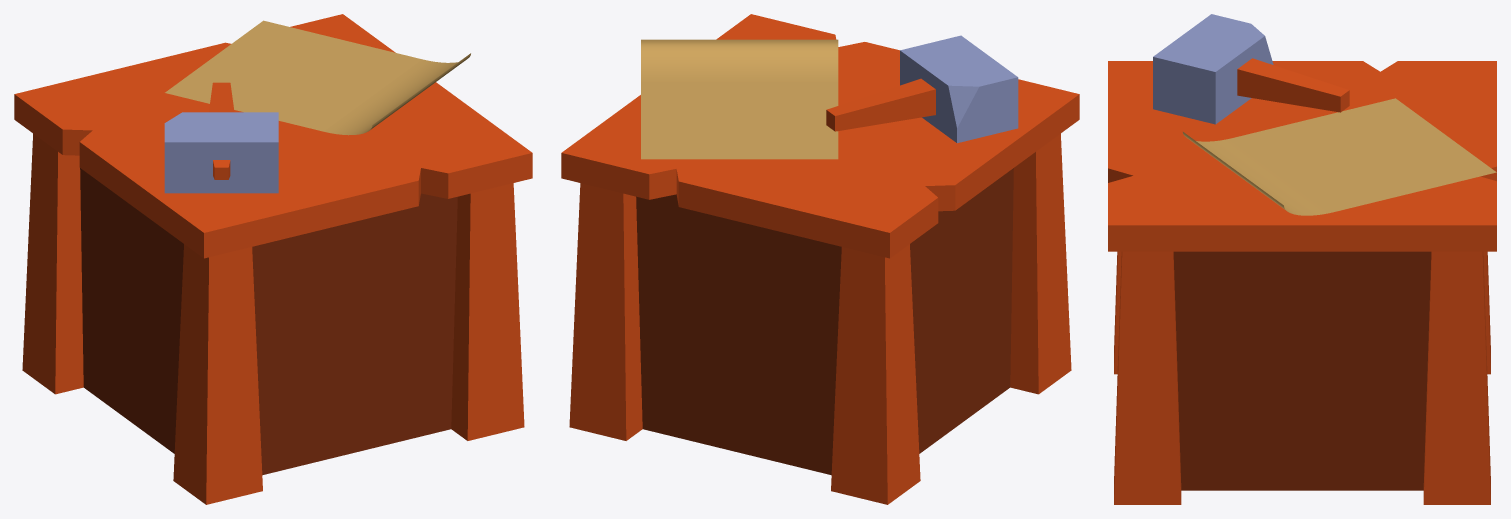
File: workbench.obj
3 renders of one model, left to right at view 1: azimuth 30°, elevation 25°; view 2: azimuth 150°, elevation 25°; view 3: azimuth 270°, elevation 25°, orthographic. The views are drawn at different scales.
Visible parts, largest first — view 1: workbench, paper, hammer; view 2: workbench, paper, hammer; view 3: workbench, paper, hammer.
Part boxes in pixels (x1,y1,x2,y2): workbench: (14, 14, 532, 504); paper: (165, 20, 470, 135); hammer: (164, 82, 278, 193); workbench: (561, 14, 1079, 504); paper: (641, 39, 838, 159); hammer: (826, 35, 1018, 143); workbench: (1108, 61, 1496, 504); paper: (1183, 98, 1496, 215); hammer: (1153, 14, 1349, 124).
Size of the model in its own units: 0.2888 by 0.2553 by 0.2688.
